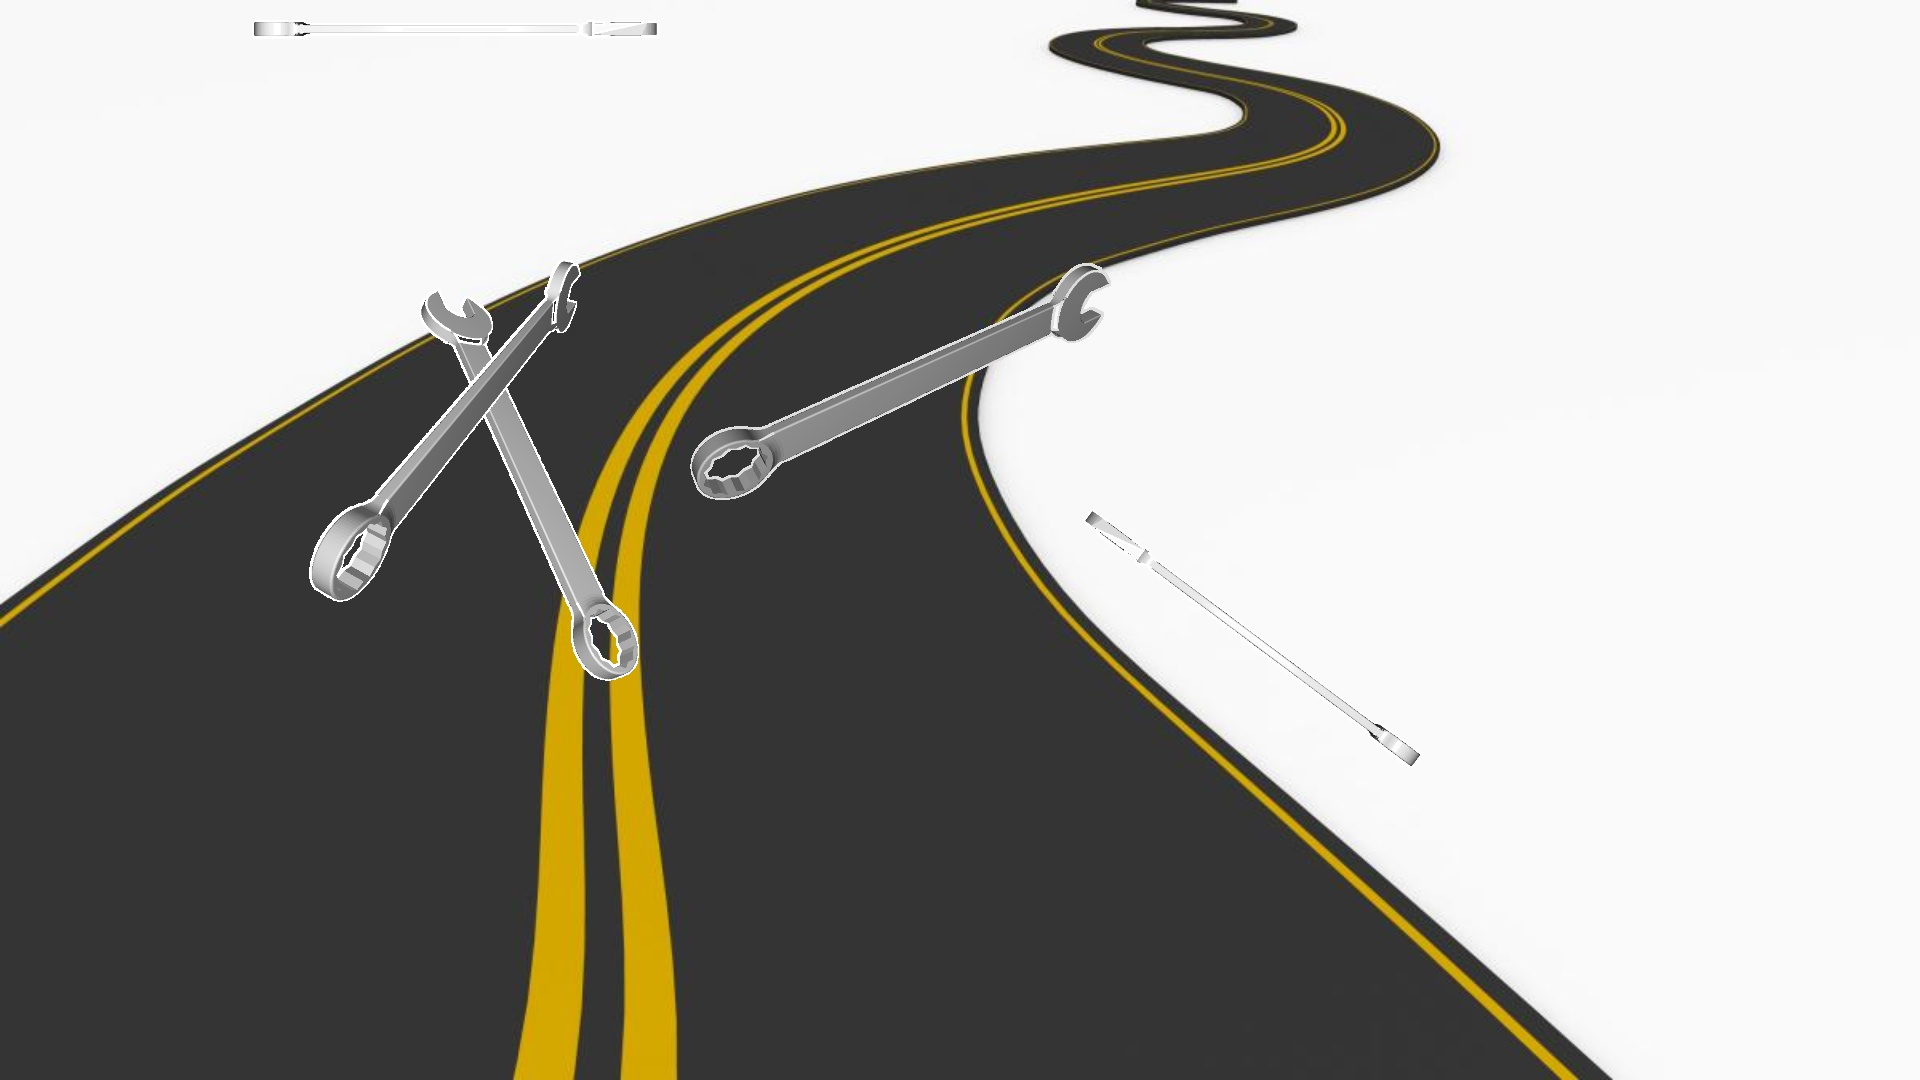Mixed Key: (690, 262, 1110, 498), (309, 258, 580, 601), (1083, 509, 1420, 767), (419, 289, 638, 680), (252, 20, 658, 38)
